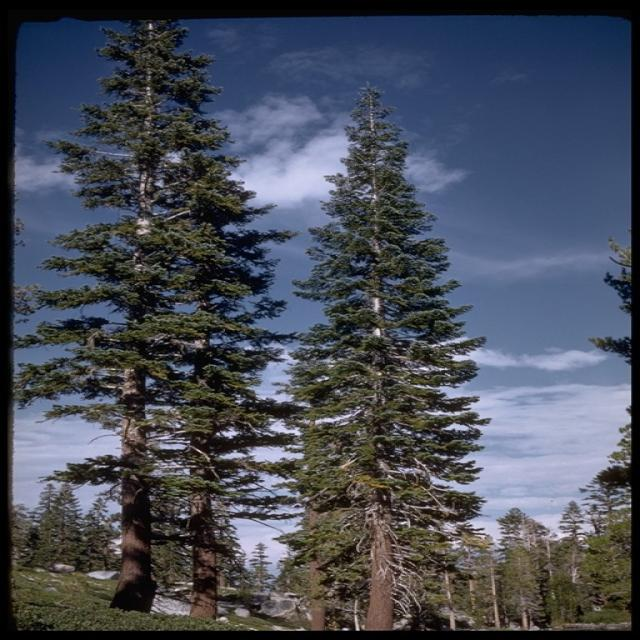Abies: (18, 18, 293, 636), (273, 84, 477, 628)
